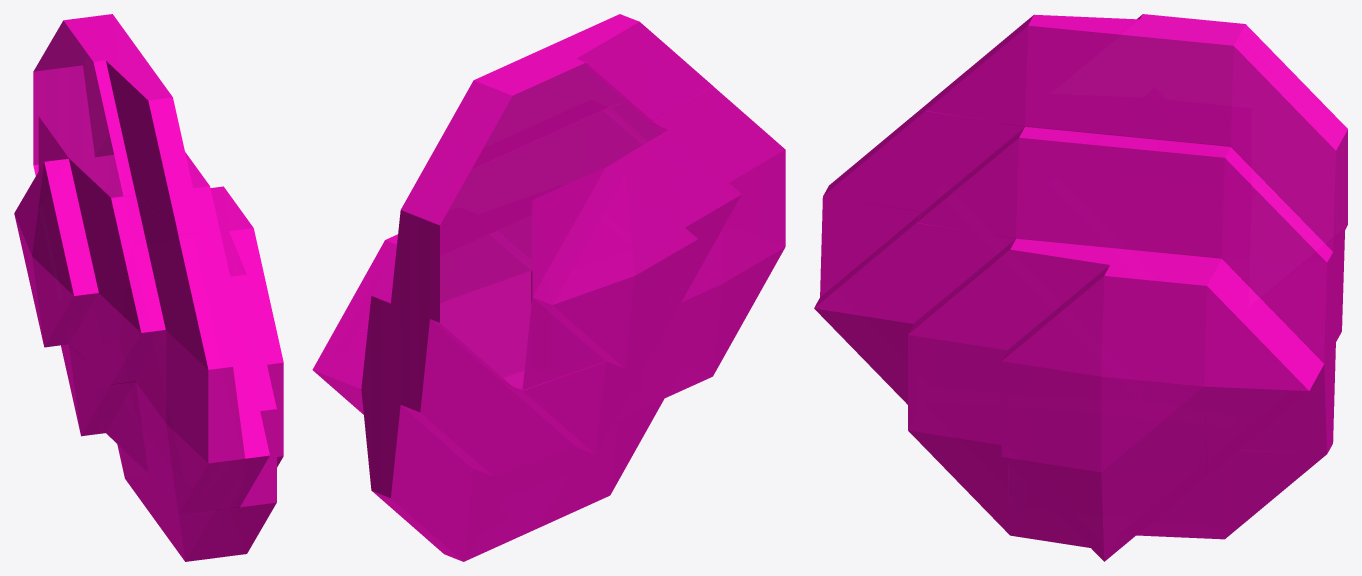
Rendered from SVV_Fragment9.gltf.
The picture shows the model from 3 angles, left to right: view 1: azimuth 30°, elevation 25°; view 2: azimuth 150°, elevation 25°; view 3: azimuth 270°, elevation 25°; orthographic projection. The views are drawn at different scales.
Parts seen in each view (by area): view 1: Fragment9; view 2: Fragment9; view 3: Fragment9.
Part boxes in pixels (bbox=[...]): Fragment9: bbox=[14, 14, 283, 561]; Fragment9: bbox=[312, 14, 785, 561]; Fragment9: bbox=[814, 14, 1347, 561].
Size of the model in its own units: 1809 by 3290 by 3336.
